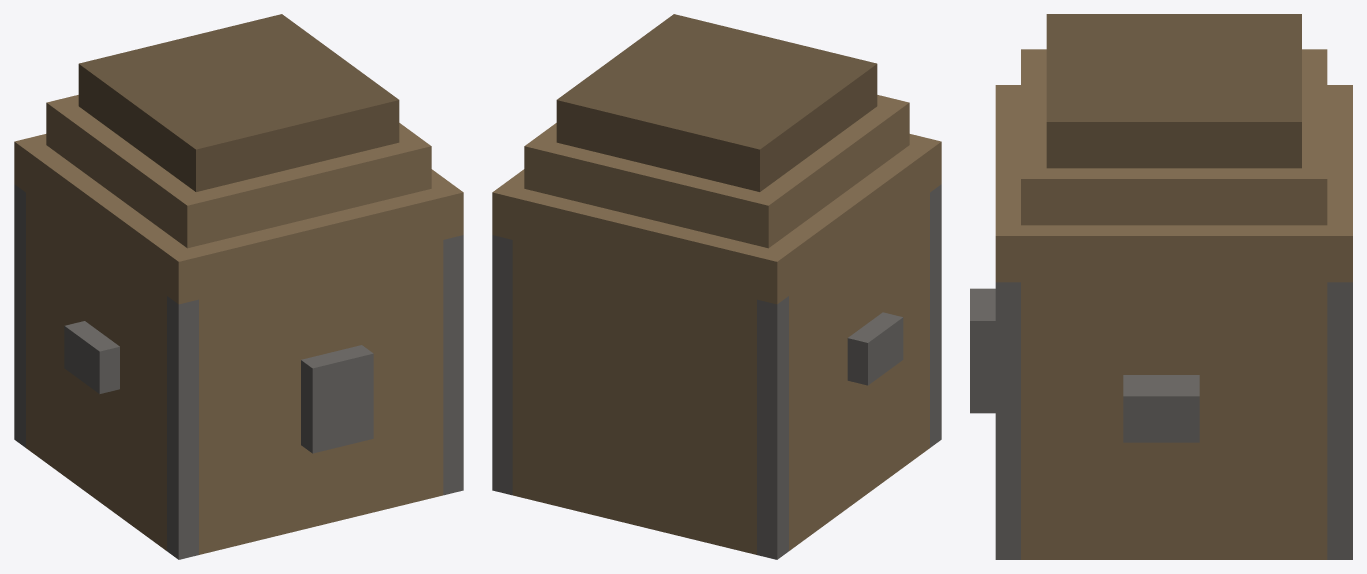
File: cofre_monedas_tienda_roble_hierro_01.glb
3 views of the same model, side by side, from view 1: azimuth 30°, elevation 25°; view 2: azimuth 150°, elevation 25°; view 3: azimuth 270°, elevation 25° (orthographic). The views are drawn at different scales.
Parts seen in each view (by area): view 1: cofre_monedas_tienda_roble_hierro; view 2: cofre_monedas_tienda_roble_hierro; view 3: cofre_monedas_tienda_roble_hierro.
Part boxes in pixels (x1,y1,x2,y2): cofre_monedas_tienda_roble_hierro: [14, 14, 463, 559]; cofre_monedas_tienda_roble_hierro: [492, 14, 941, 559]; cofre_monedas_tienda_roble_hierro: [970, 14, 1352, 559].
Size of the model in its own units: 1.21 by 1.29 by 1.07.
